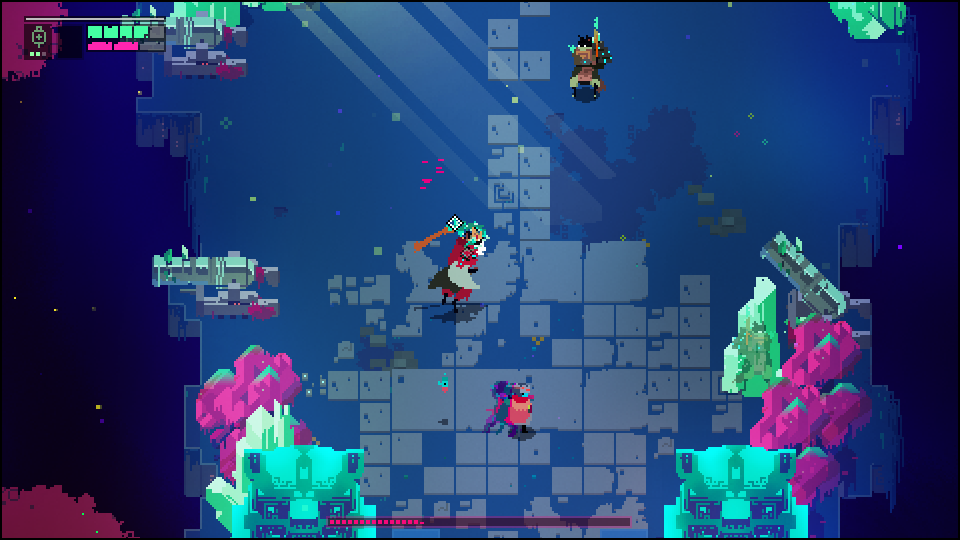hanged_man: (407, 215, 494, 316)
player: (506, 380, 537, 435)
